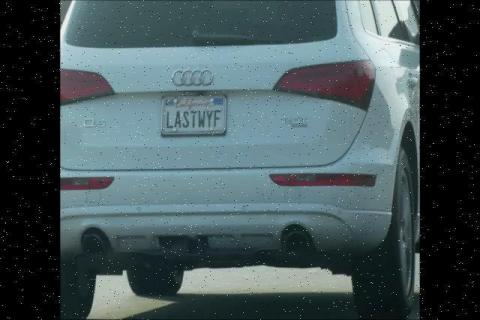LicensePlate: (155, 89, 237, 144)
